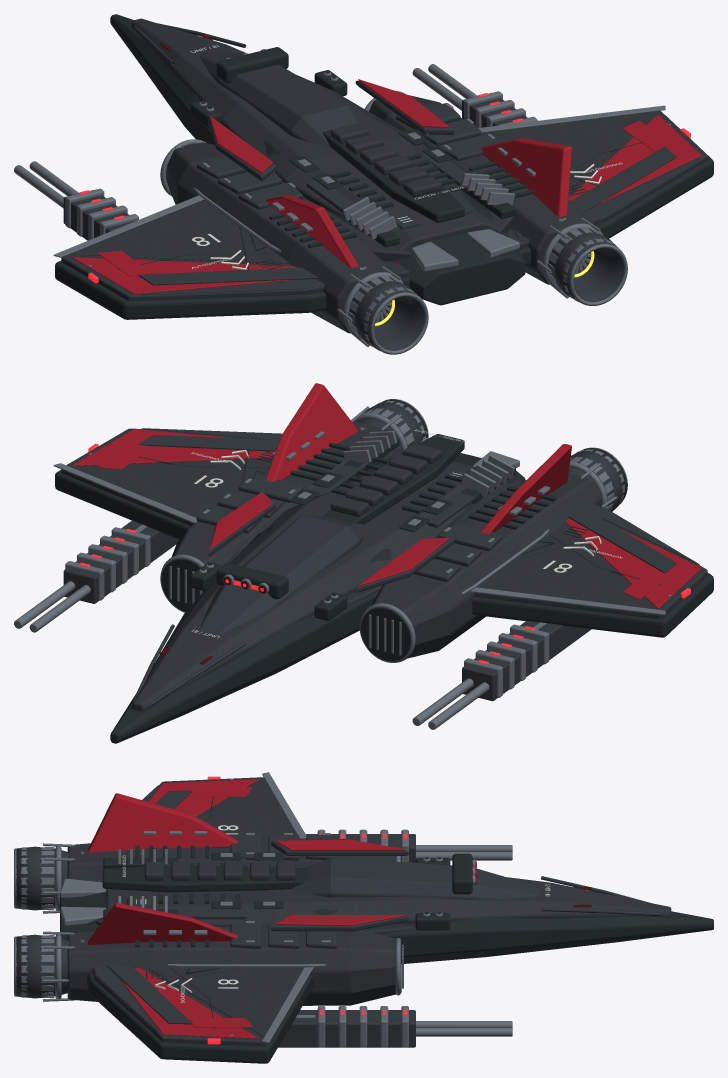
File: elite.glb
3 renders of one model, top to bottom at view 1: azimuth 30°, elevation 25°; view 2: azimuth 150°, elevation 25°; view 3: azimuth 270°, elevation 25°, orthographic. The views are drawn at different scales.
Parts seen in each view (by area): view 1: 主装甲_陶瓷金属涂层, 次级装甲_深色钢, 碳化结构与接缝, 拉丝钛合金, 识别色, 丝印与编号; view 2: 主装甲_陶瓷金属涂层, 碳化结构与接缝, 次级装甲_深色钢, 拉丝钛合金, 识别色, 丝印与编号, 航行灯; view 3: 主装甲_陶瓷金属涂层, 次级装甲_深色钢, 碳化结构与接缝, 识别色, 拉丝钛合金, 丝印与编号.
Part boxes in pixels (bbox=[...]): 主装甲_陶瓷金属涂层: bbox=[61, 18, 707, 333]; 次级装甲_深色钢: bbox=[63, 23, 699, 350]; 碳化结构与接缝: bbox=[55, 14, 713, 319]; 拉丝钛合金: bbox=[14, 49, 671, 354]; 识别色: bbox=[72, 79, 701, 294]; 丝印与编号: bbox=[190, 44, 622, 269]; 主装甲_陶瓷金属涂层: bbox=[61, 421, 707, 711]; 碳化结构与接缝: bbox=[55, 434, 713, 743]; 次级装甲_深色钢: bbox=[63, 399, 699, 705]; 拉丝钛合金: bbox=[14, 399, 671, 729]; 识别色: bbox=[72, 383, 701, 608]; 丝印与编号: bbox=[191, 429, 622, 638]; 航行灯: bbox=[79, 443, 690, 664]; 主装甲_陶瓷金属涂层: bbox=[67, 777, 671, 1046]; 次级装甲_深色钢: bbox=[16, 786, 661, 1047]; 碳化结构与接缝: bbox=[60, 797, 713, 1063]; 识别色: bbox=[88, 779, 405, 1038]; 拉丝钛合金: bbox=[14, 772, 512, 1047]; 丝印与编号: bbox=[122, 825, 550, 1002].
Bounding box in the file's own units: 8.59 × 1.53 × 9.41.
Materials: 9 (1 with a texture image).
